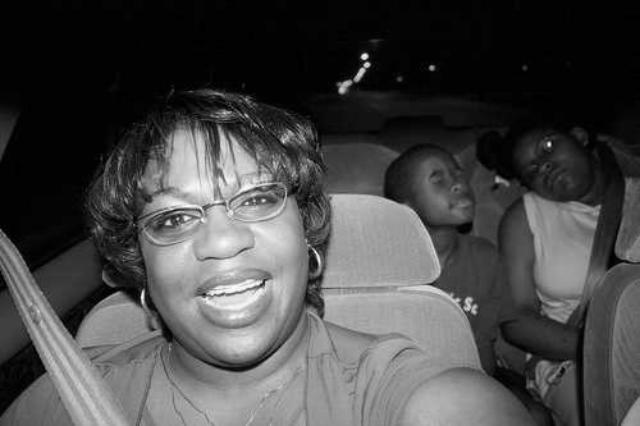SafeDriving: (148, 197, 207, 237), (230, 180, 286, 217)
Seatbelt: (0, 224, 136, 426)
